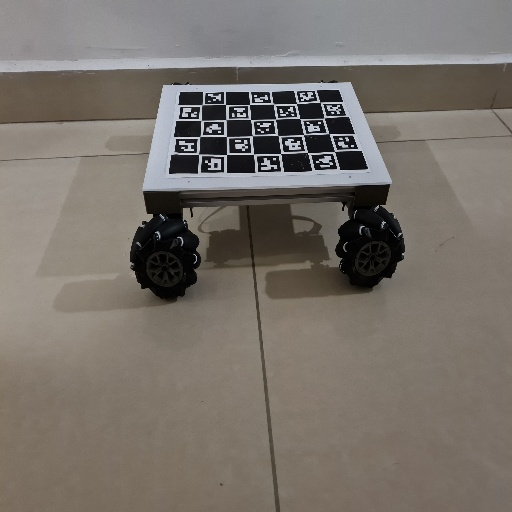Omniwheel: (129, 80, 409, 303)
